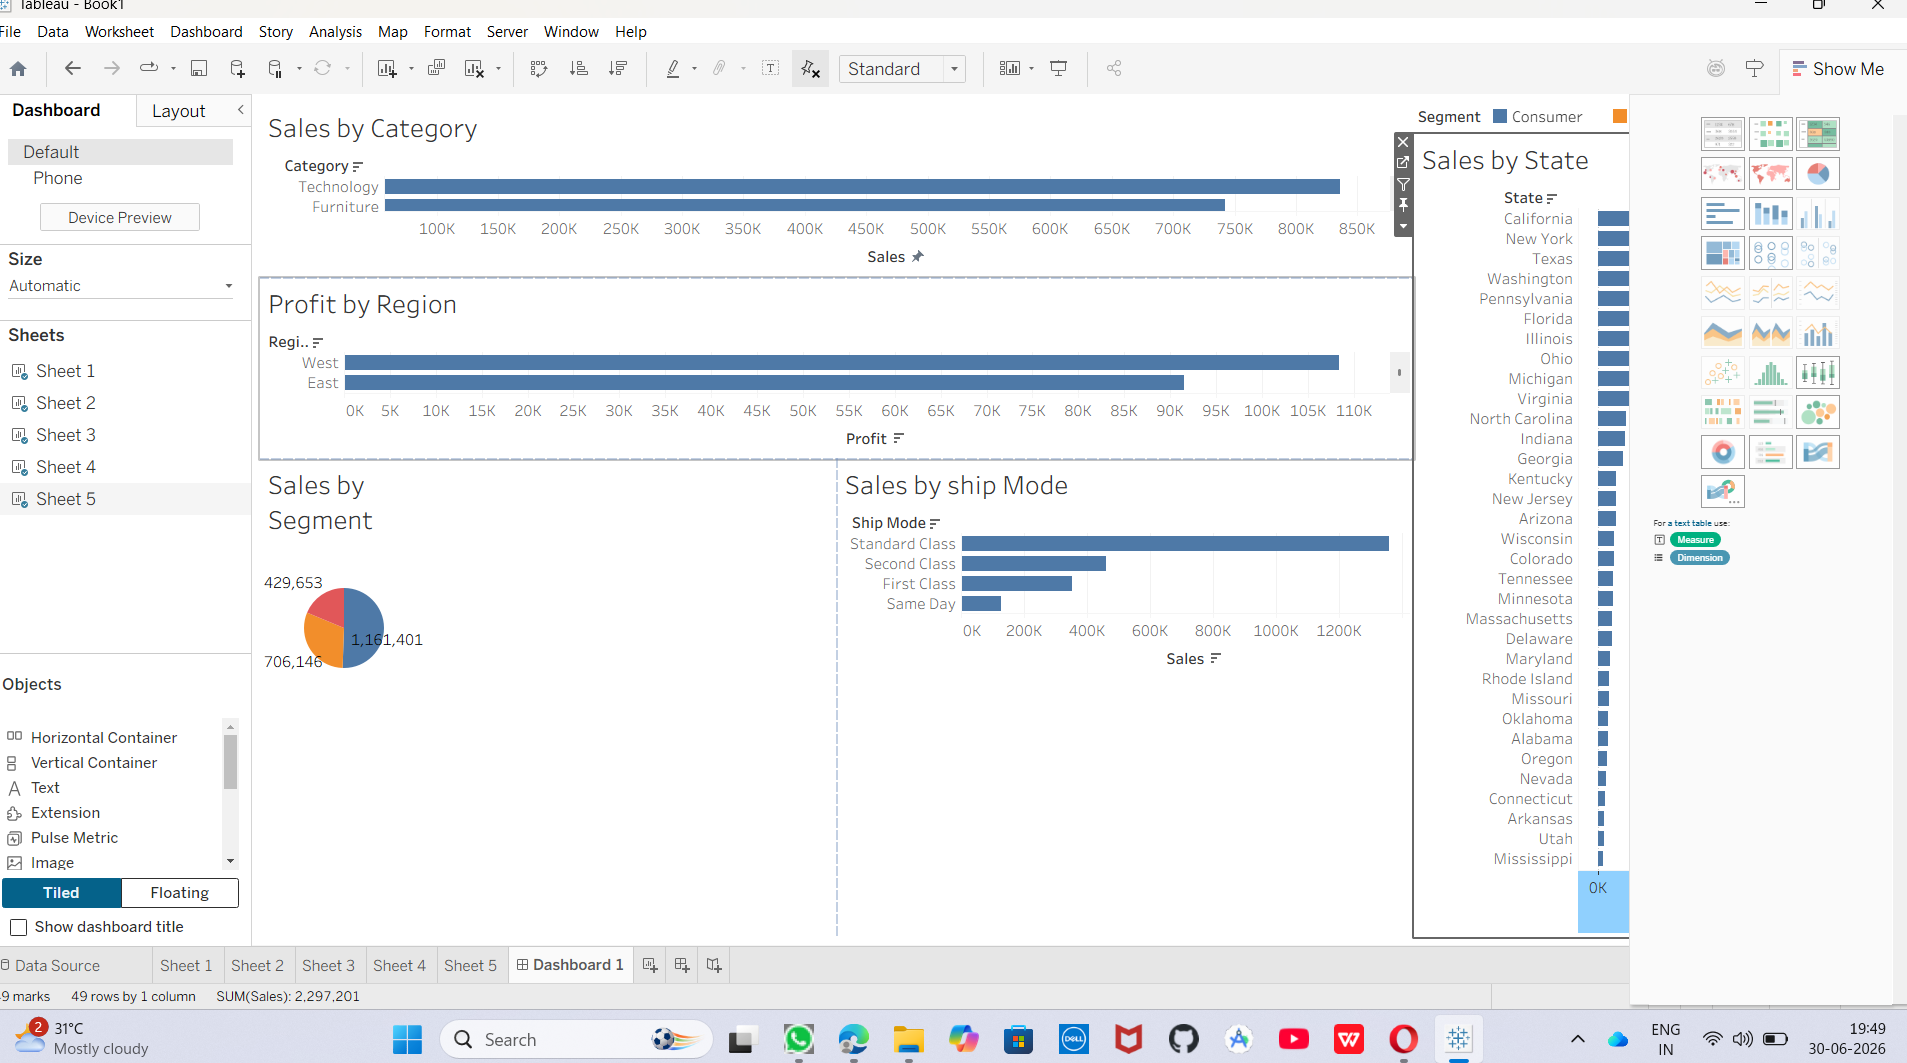

What the dashboard file says about the page in this screenshot:
{"tool":"tableau","page":{"name":"Dashboard 1","canvas":[1000,1000],"units":"permille","ordinal":0},"visuals":[{"type":"worksheet","title":"Sheet 1","mark":"Automatic","rows":["Category"],"cols":["Sales"],"box":[4.8,9.4,696.4,206.6]},{"type":"legend","title":"Sheet 3","param":"[federated.0jqrivn0mjmsmn18g3yke18x7dxd].[none:Segment:nk]","box":[701.3,9.4,293.9,37.6]},{"type":"worksheet","title":"Sheet 5","mark":"Automatic","rows":["State"],"cols":["Sales"],"box":[701.3,47,293.9,943.6]},{"type":"worksheet","title":"Sheet 2","mark":"Automatic","rows":["Region"],"cols":["Profit"],"box":[4.8,216,696.4,213.3]},{"type":"worksheet","title":"Sheet 3","mark":"Pie","box":[4.8,429.3,348.1,561.3]},{"type":"worksheet","title":"Sheet 4","mark":"Automatic","rows":["Ship Mode"],"cols":["Sales"],"box":[352.9,429.3,348.3,561.3]}]}

Visuals, with their boxes on the dashboard's canvas, which has no fixed pixel size, in thousandths of its width and height (x1, y1, x2, y2). These are canvas units, not pixel positions in the 1907x1063 screenshot, which may show the page scaled, cropped or inside an application window:
"Sheet 1" worksheet: box=[5, 9, 701, 216]
"Sheet 3" legend: box=[701, 9, 995, 47]
"Sheet 5" worksheet: box=[701, 47, 995, 991]
"Sheet 2" worksheet: box=[5, 216, 701, 429]
"Sheet 3" worksheet (Pie marks): box=[5, 429, 353, 991]
"Sheet 4" worksheet: box=[353, 429, 701, 991]
